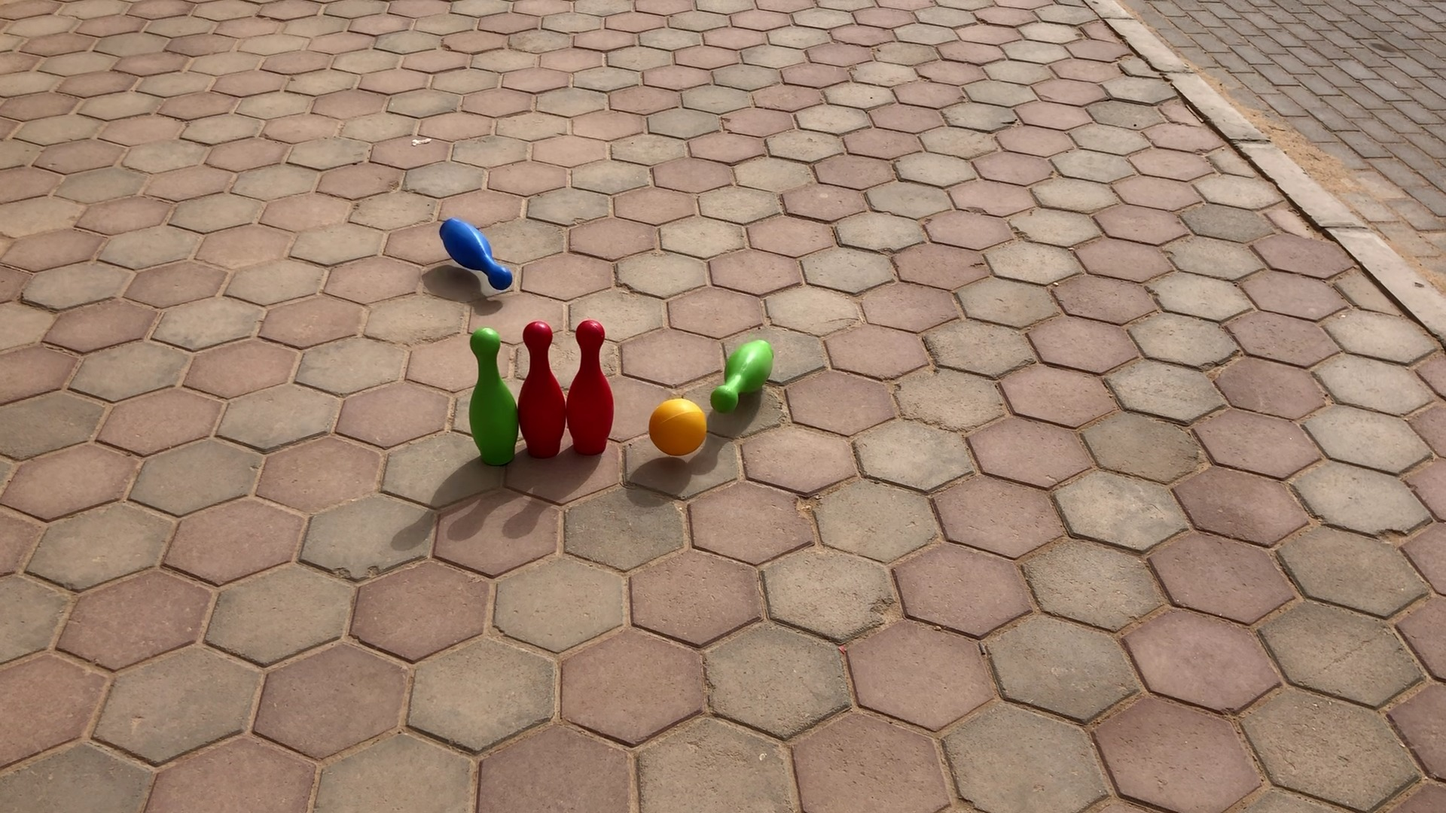bowling-pin: (474, 324, 520, 465), (569, 319, 616, 455), (516, 318, 561, 458), (443, 218, 514, 289), (712, 340, 772, 411)
